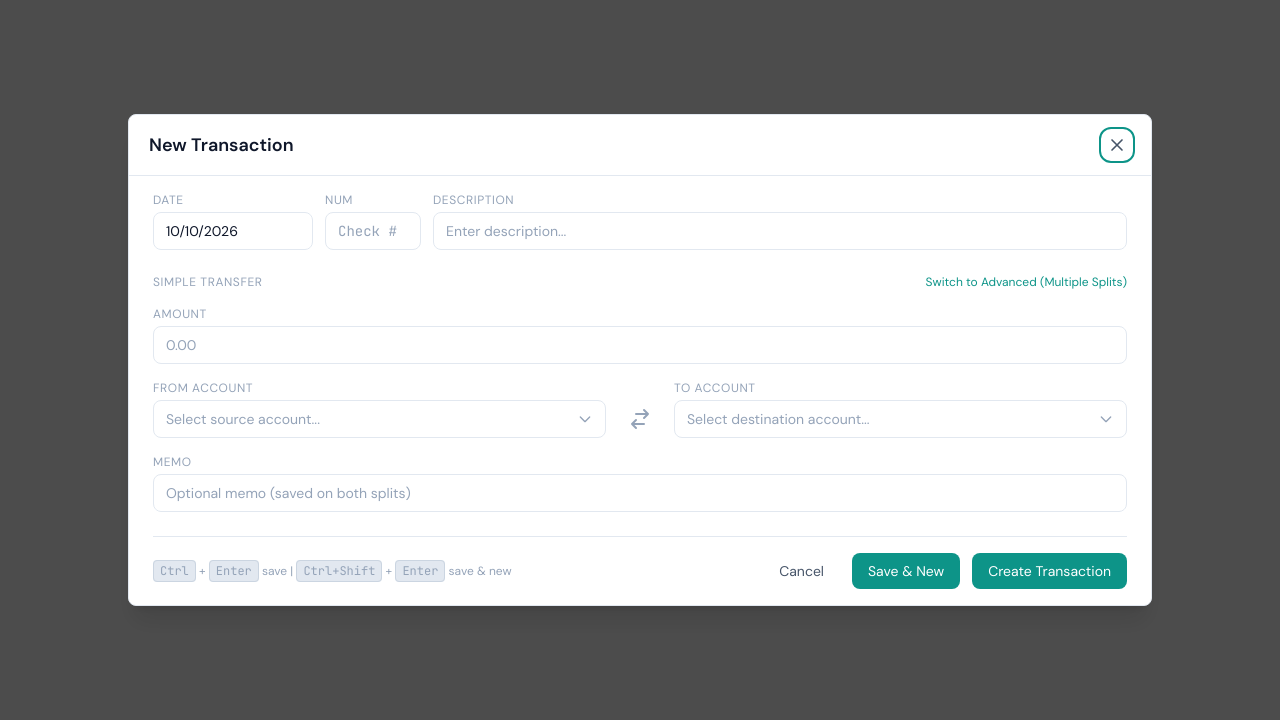
Test case: TransactionFormModal escape guard — new transaction › (d2) Escape dismisses the prompt without closing the form underneath it
In the field with placeholder "0.00": (640,345) x1=153 y1=326 x2=1127 y2=364, type "25.00"
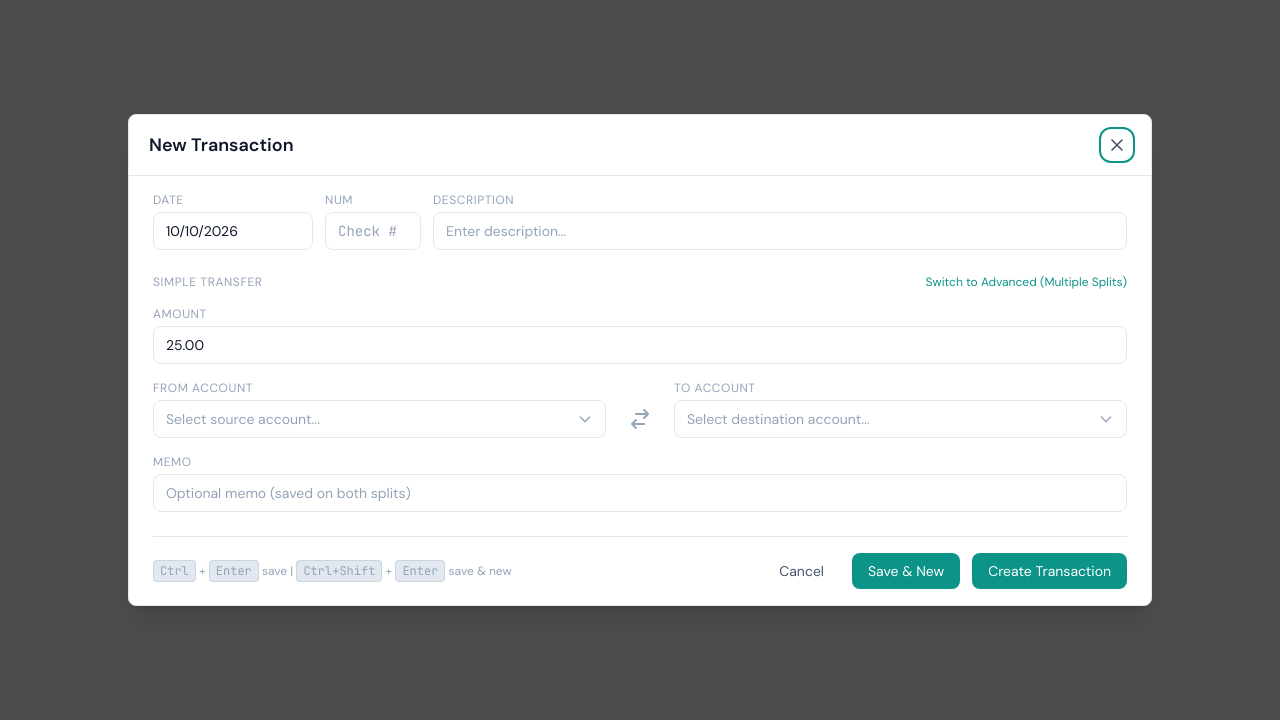
Press Escape
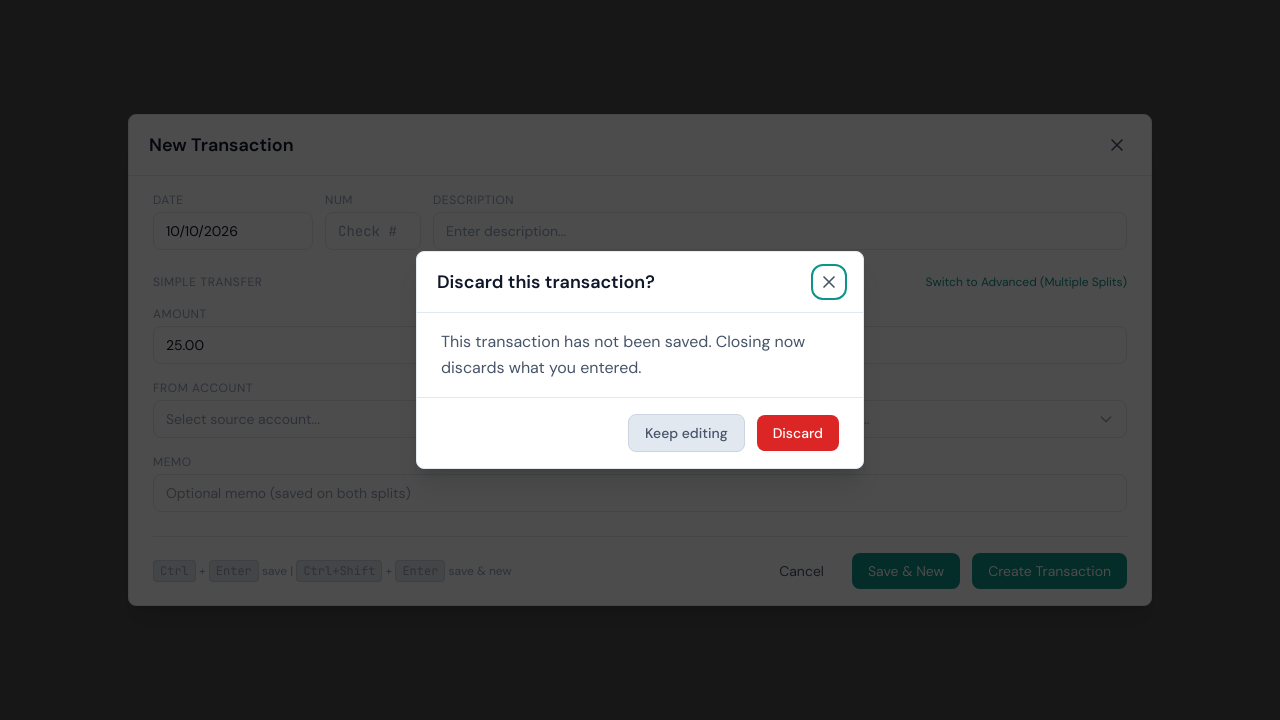
expect the heading "Discard this transaction?" is shown: met, box x1=437 y1=268 x2=655 y2=296
Press Escape
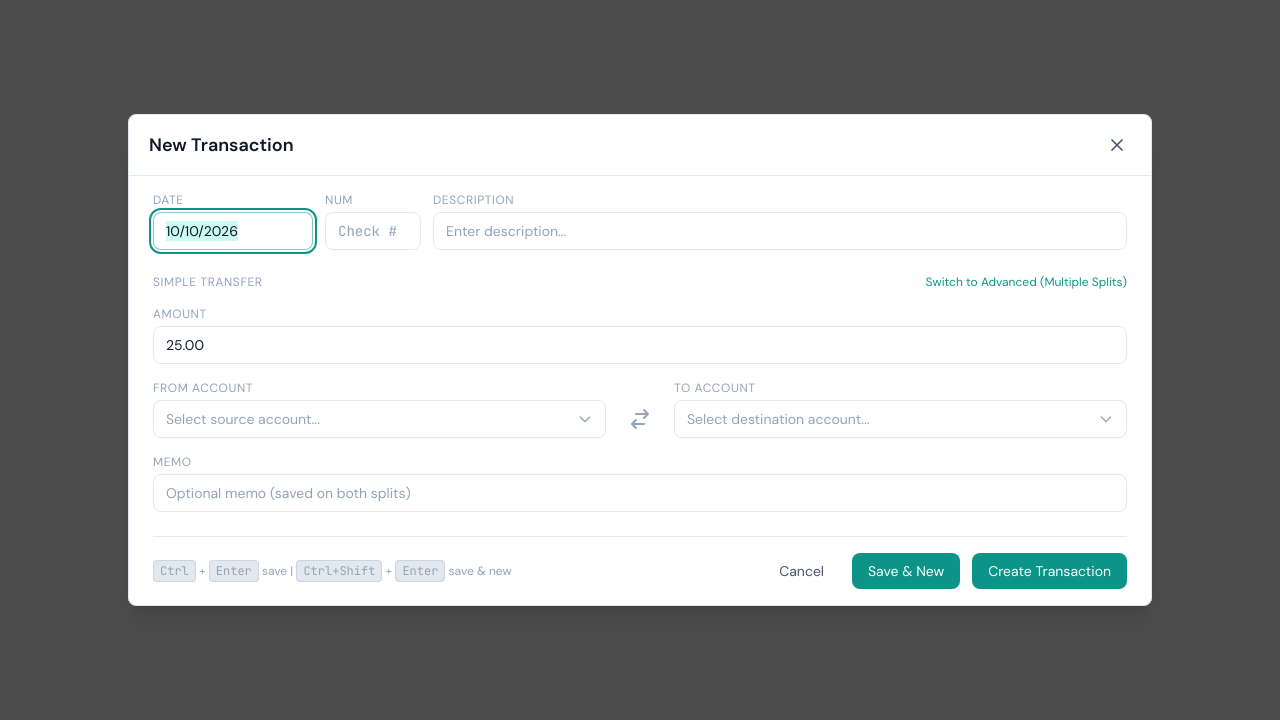
expect the heading "Discard this transaction?" is gone: met
